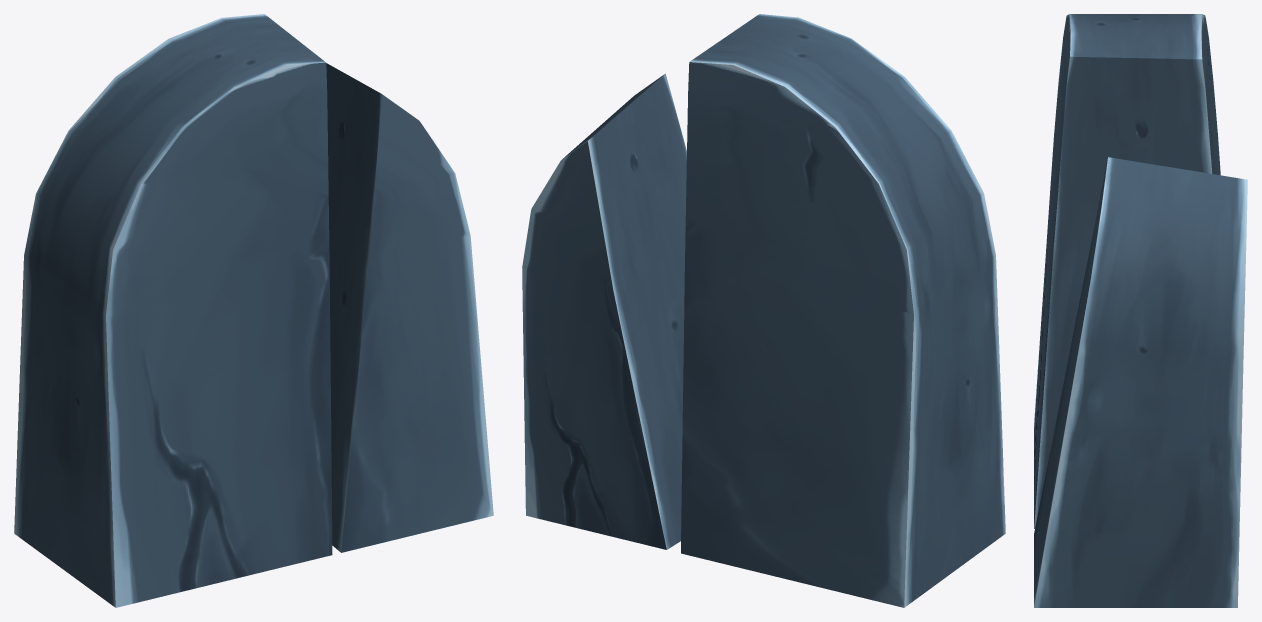
The model's file is SM_PROP_gravestone_v01_02.fbx.
3 views of the same model, side by side, from view 1: azimuth 30°, elevation 25°; view 2: azimuth 150°, elevation 25°; view 3: azimuth 270°, elevation 25° (orthographic).
Parts seen in each view (by area): view 1: SM_PROP_gravestone_v01_02; view 2: SM_PROP_gravestone_v01_02; view 3: SM_PROP_gravestone_v01_02.
Boxes of the visible parts, x1=… form: SM_PROP_gravestone_v01_02: x1=14, y1=14, x2=493, y2=607; SM_PROP_gravestone_v01_02: x1=522, y1=14, x2=1005, y2=607; SM_PROP_gravestone_v01_02: x1=1034, y1=14, x2=1247, y2=607.
Bounding box in the file's own units: 108 × 132 × 52.78.
